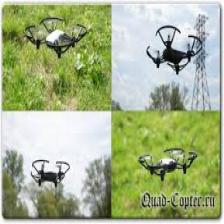drone: (146, 26, 201, 73), (24, 18, 86, 57), (138, 147, 197, 180), (31, 160, 70, 188)
